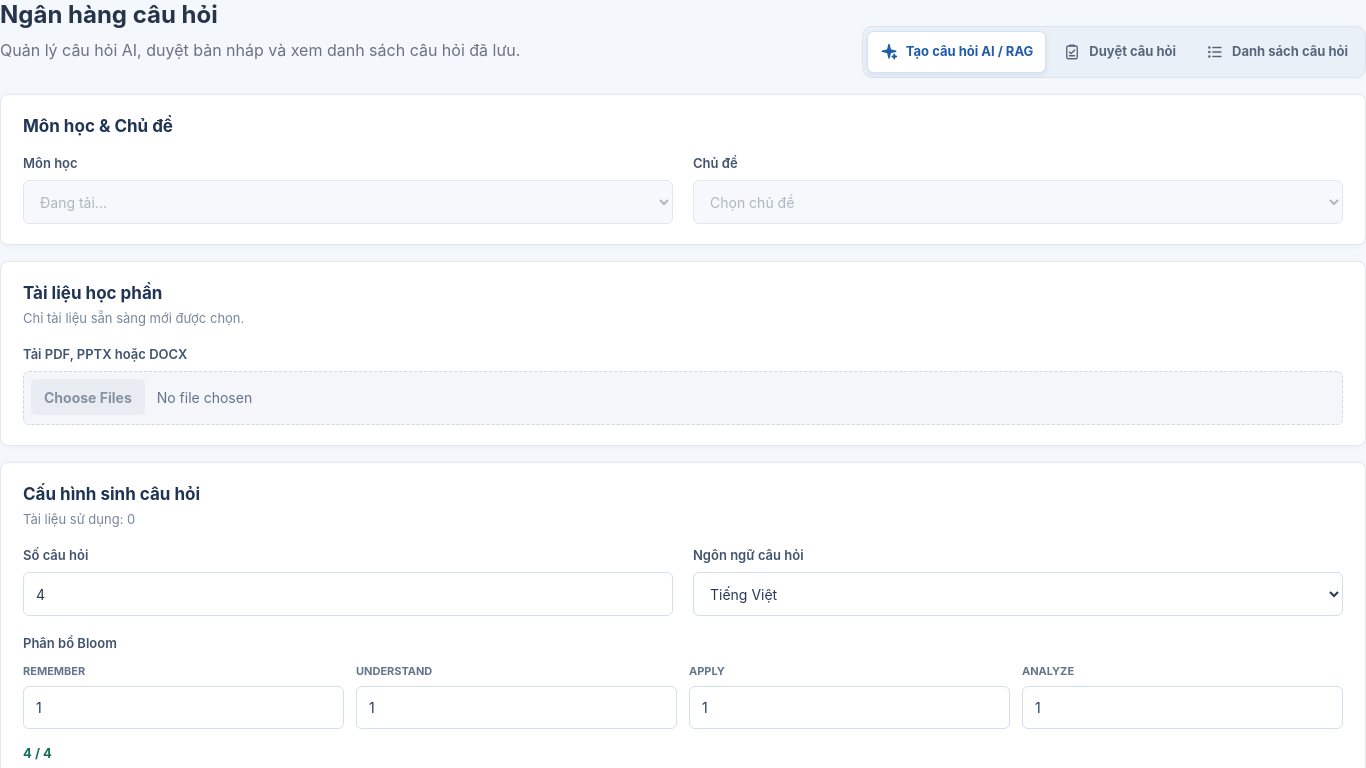
Test case: QuestionBankPage tabs › shows only the three in-place tabs and loads all saved question statuses in the list tab
Step 1. Click the tab "Danh sách câu hỏi" → (1277, 52), box [1193, 31, 1361, 73]
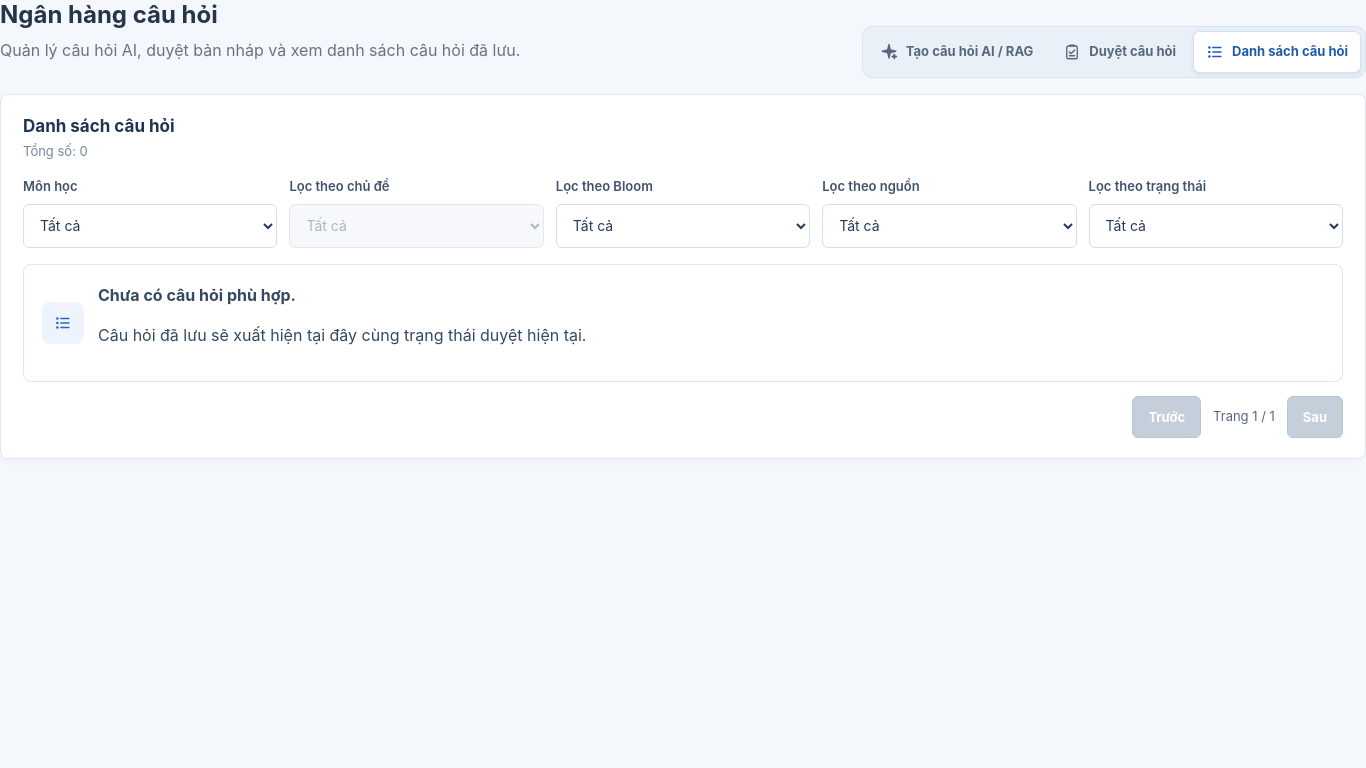
Expected: the text "Chưa có câu hỏi phù hợp." is shown, [98, 285, 296, 305]
